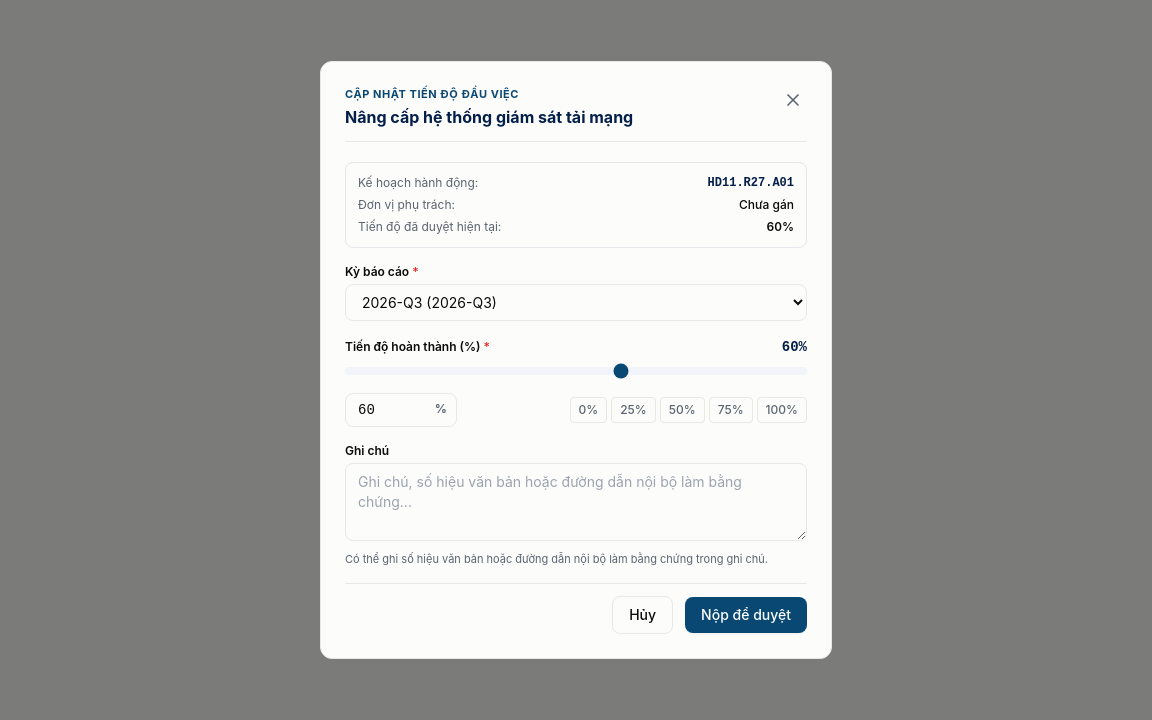
Test: TaskUpdateForm component › displays PERIOD_CLOSED banner when server returns PERIOD_CLOSED
The width and height of the screenshot is (1152, 720).
What coordinates should you click on to do the following:
click the button "Nộp để duyệt"
I would click on:
 (746, 615)
Its box is [685, 597, 807, 633].
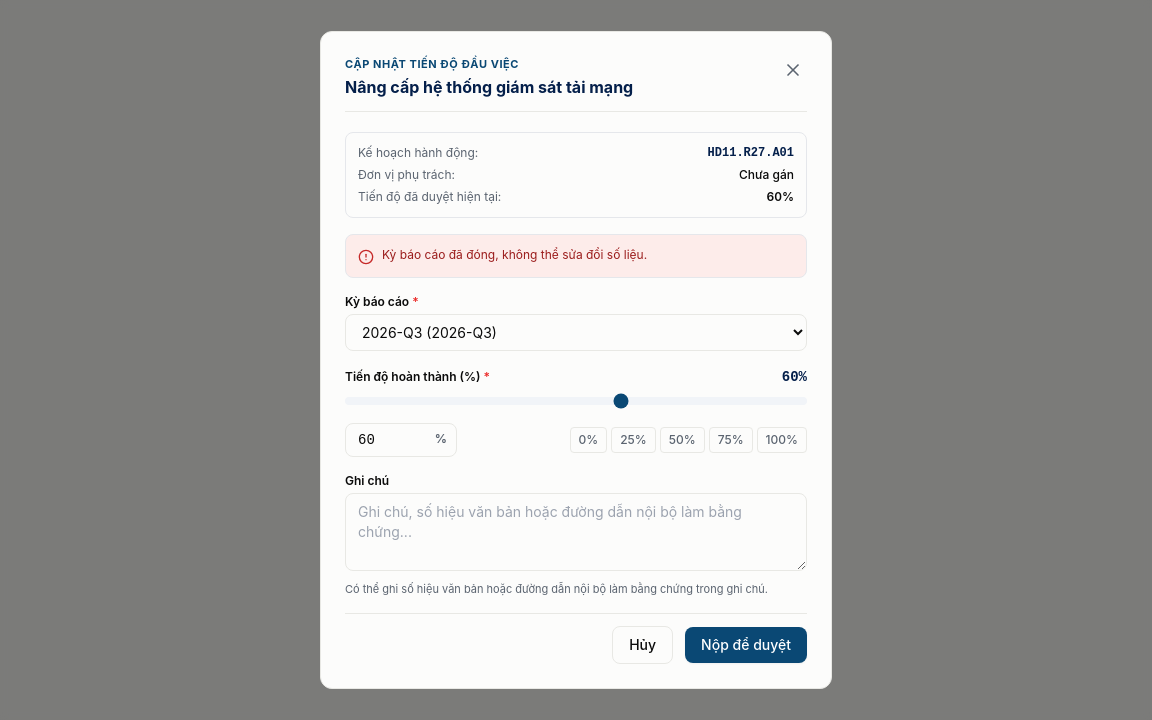
Result: the text "Kỳ báo cáo đã đóng, không thể sửa đổi số liệu." is shown at [382, 246, 647, 262]
